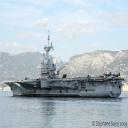Portanaves: (4, 30, 127, 99)
